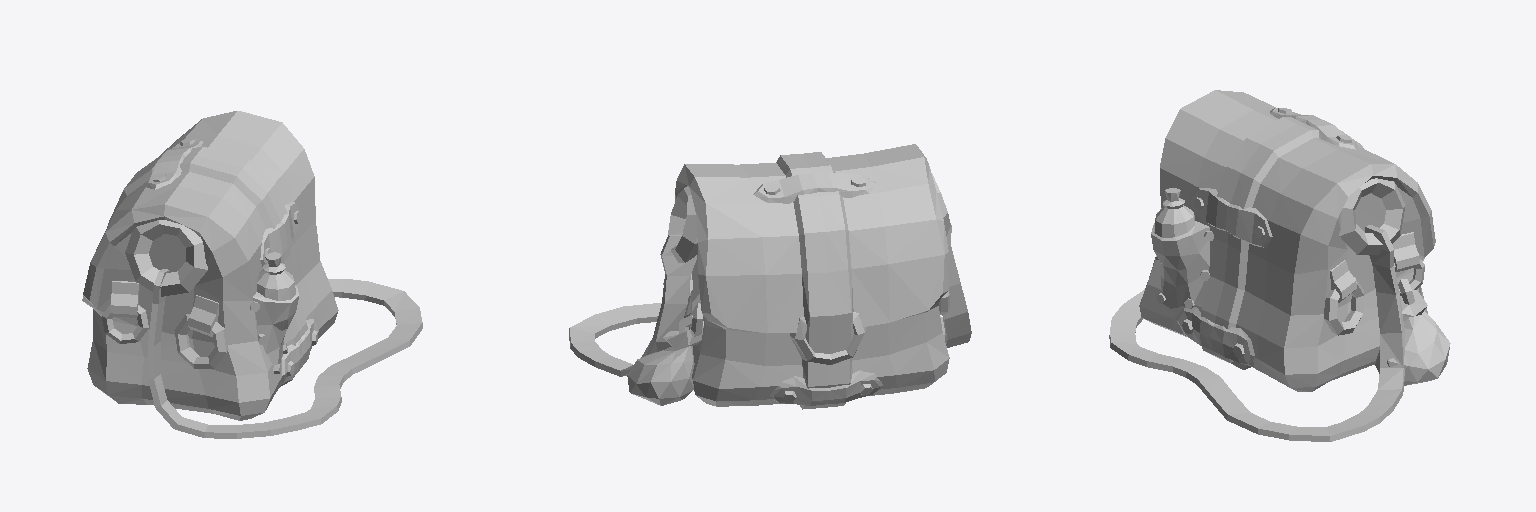
Rendered from travellers_leather_bag.obj.
The picture shows the model from 3 angles: view 1: azimuth 30°, elevation 25°; view 2: azimuth 150°, elevation 25°; view 3: azimuth 270°, elevation 25°; orthographic projection.
Parts seen in each view (by area): view 1: traveler_leather_bag; view 2: traveler_leather_bag; view 3: traveler_leather_bag.
Boxes of the visible parts, x1=… form: traveler_leather_bag: x1=82, y1=111, x2=422, y2=438; traveler_leather_bag: x1=569, y1=144, x2=971, y2=409; traveler_leather_bag: x1=1109, y1=90, x2=1450, y2=441.
Bounding box in the file's own units: 184 × 108 × 156.